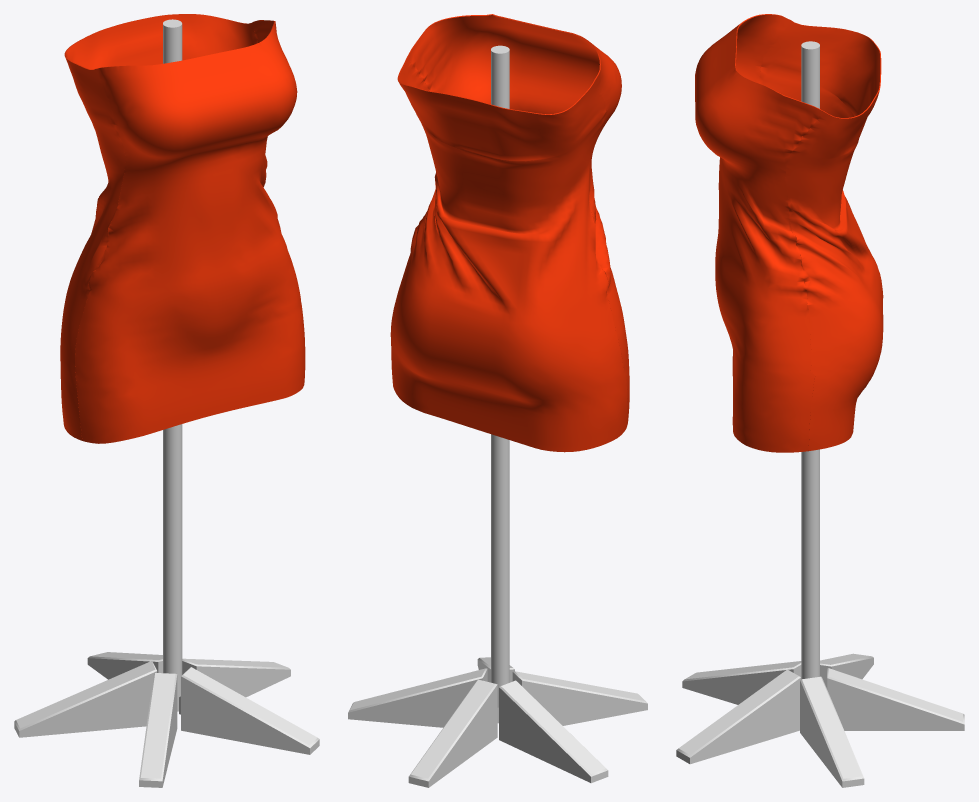
File: Dress 5.fbx
3 renders of one model, left to right at view 1: azimuth 30°, elevation 25°; view 2: azimuth 150°, elevation 25°; view 3: azimuth 270°, elevation 25°, orthographic. The views are drawn at different scales.
Parts seen in each view (by area): view 1: Pattern2D_423578, Pattern2D_423579, Cube_3, Cylinder, Cube_1, Cube_2, Cube_4, Cube_5; view 2: Pattern2D_423579, Pattern2D_423578, Cylinder, Cube_1, Cube_5, Cube_4, Cube_2; view 3: Pattern2D_423578, Pattern2D_423579, Cylinder, Cube_3, Cube_5, Cube_4, Cube_2, Cube_1.
Boxes of the visible parts, x1,y1,x2,y2 form: Pattern2D_423578: (75,20,305,443); Pattern2D_423579: (60,14,257,440); Cube_3: (181,667,319,754); Cylinder: (163,19,182,697); Cube_1: (14,661,157,737); Cube_2: (139,673,177,787); Cube_4: (179,658,290,714); Cube_5: (87,652,178,711); Pattern2D_423579: (390,58,627,452); Pattern2D_423578: (406,14,629,427); Cylinder: (491,45,509,707); Cube_1: (499,680,608,783); Cube_5: (408,679,497,787); Cube_4: (348,668,487,727); Cube_2: (512,671,647,725); Pattern2D_423578: (695,14,824,452); Pattern2D_423579: (759,20,883,451); Cylinder: (801,41,819,679); Cube_3: (676,669,800,764); Cube_5: (827,668,964,730); Cube_4: (800,676,864,787); Cube_2: (682,661,801,704); Cube_1: (820,653,873,689).
Size of the model in its own units: 436 by 1090 by 419.
